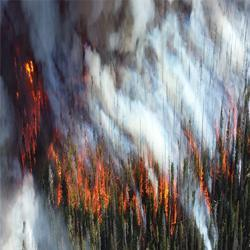fire: (16, 56, 42, 81)
